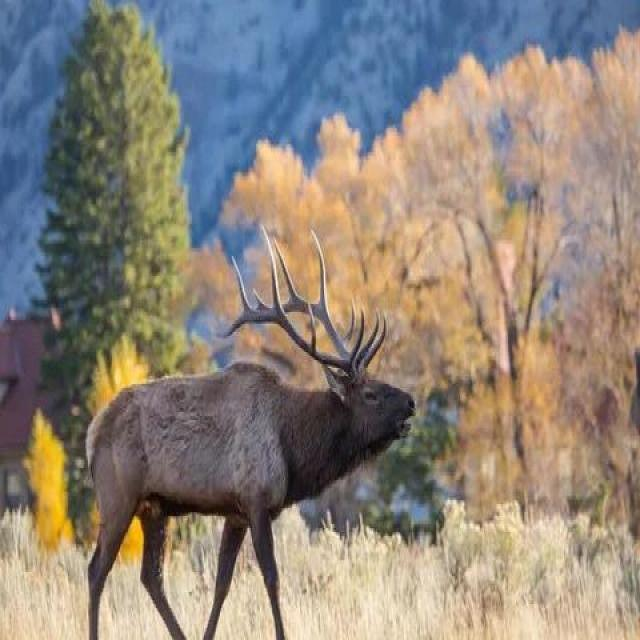deer: (51, 204, 464, 600)
